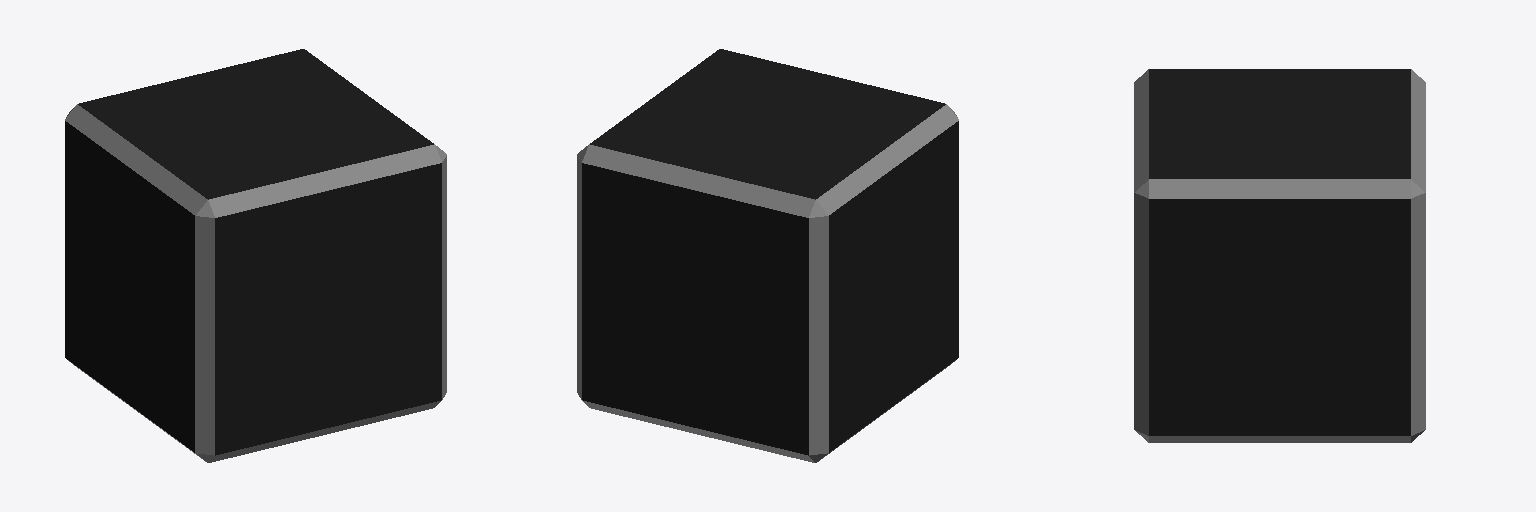
3 renders of one model, left to right at view 1: azimuth 30°, elevation 25°; view 2: azimuth 150°, elevation 25°; view 3: azimuth 270°, elevation 25°, orthographic.
Visible parts, largest first — view 1: Cube; view 2: Cube; view 3: Cube.
Boxes of the visible parts, x1=… form: Cube: x1=65, y1=49, x2=446, y2=462; Cube: x1=577, y1=49, x2=958, y2=462; Cube: x1=1134, y1=69, x2=1425, y2=442.
Bounding box in the file's own units: 1 × 1 × 1.
1 materials, 1 textured.